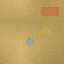person: (25, 37, 33, 46)
structure: (37, 23, 53, 35)
vehicle: (42, 6, 59, 15)
